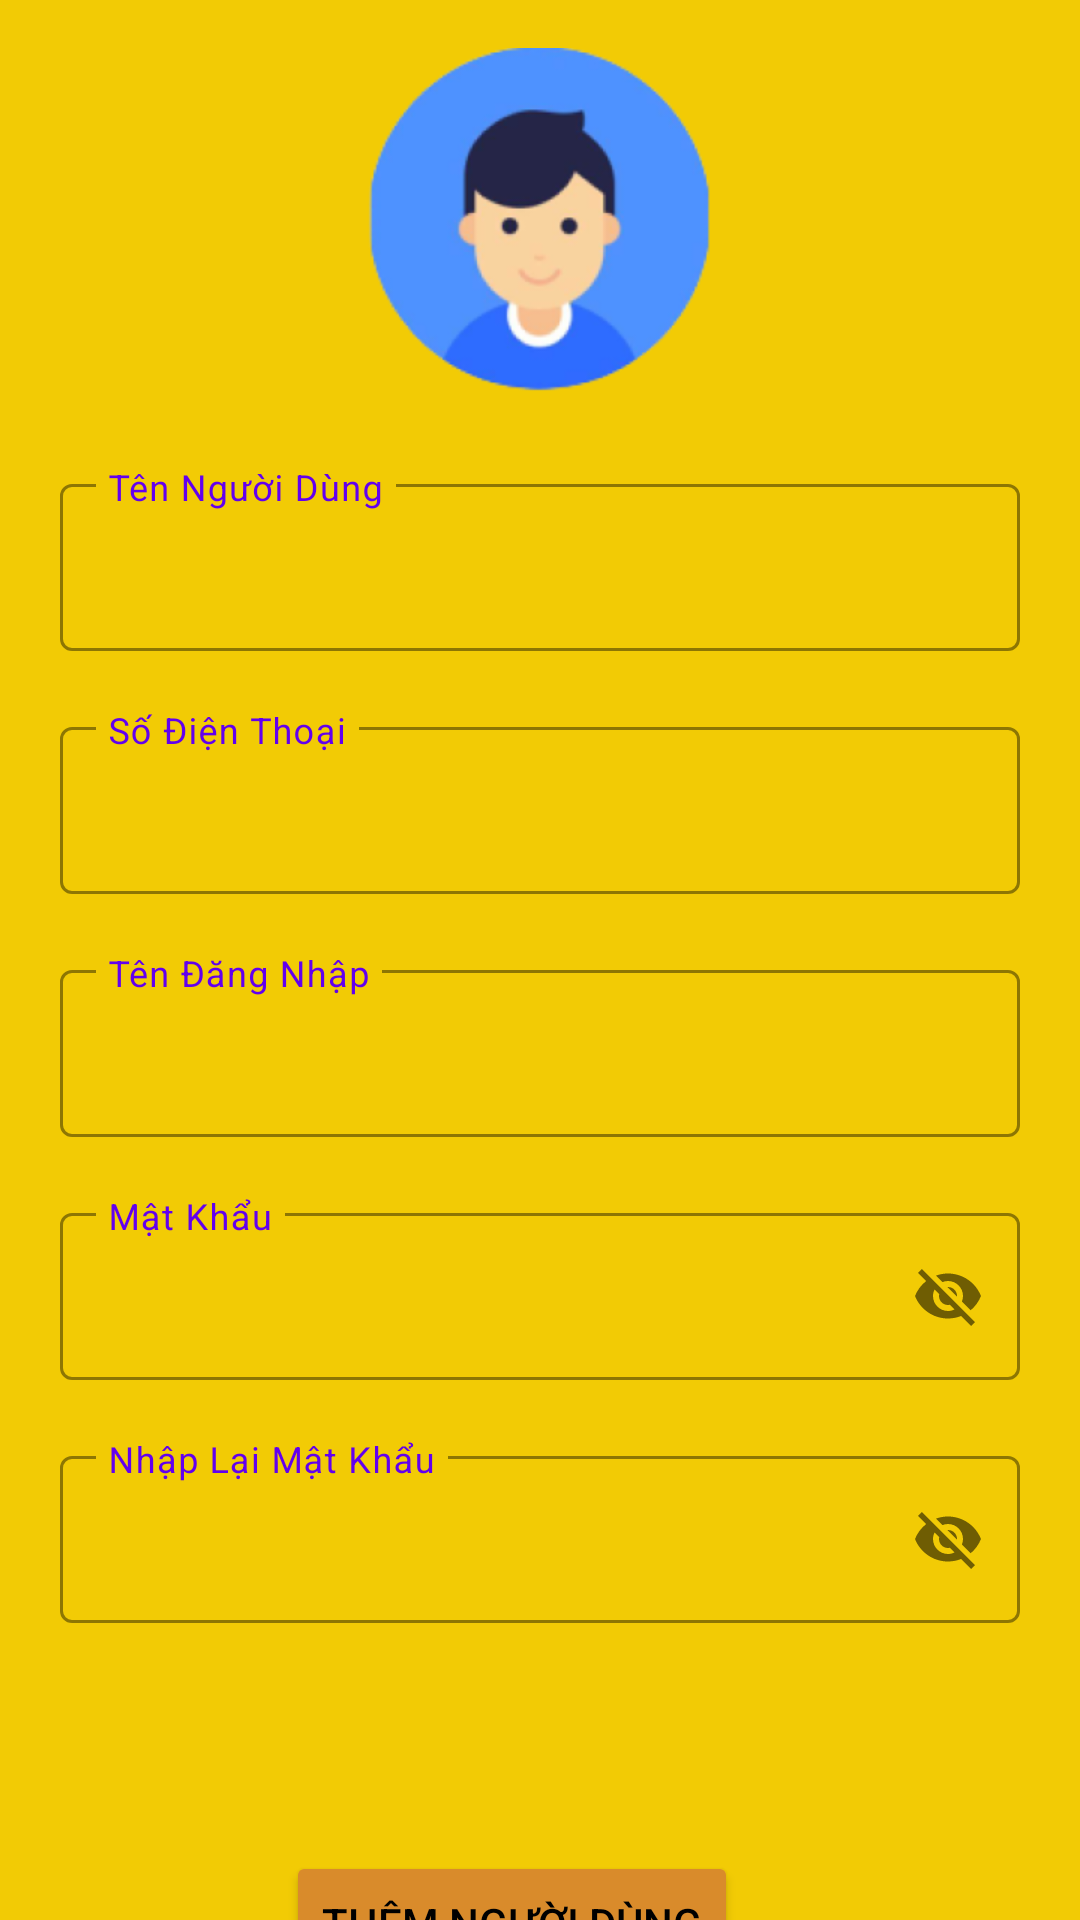

Icon click points for this 1080px×1920px phone screenshot, format (x=x, y=y):
avata: (x=539, y=219)
